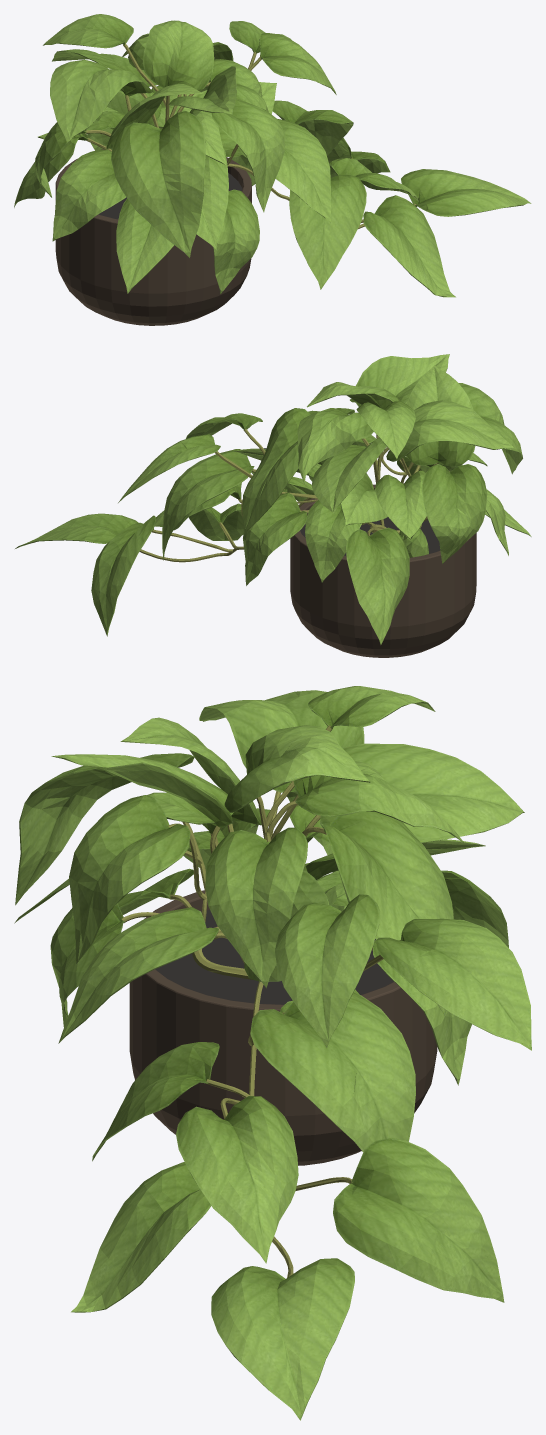
File: augalas.obj
3 renders of one model, top to bottom at view 1: azimuth 30°, elevation 25°; view 2: azimuth 150°, elevation 25°; view 3: azimuth 270°, elevation 25°, orthographic. The views are drawn at different scales.
Parts seen in each view (by area): view 1: Augalas1_Untitled, Cylinder, Augalas35_Untitled.026, Grid; view 2: Augalas1_Untitled, Cylinder, Augalas35_Untitled.026, Grid; view 3: Augalas1_Untitled, Cylinder, Augalas35_Untitled.026, Grid.
Boxes of the visible parts, x1,y1,x2,y2 form: Augalas1_Untitled: (14, 14, 531, 297); Cylinder: (55, 149, 251, 325); Augalas35_Untitled.026: (85, 43, 416, 228); Grid: (98, 173, 242, 219); Augalas1_Untitled: (15, 354, 531, 644); Cylinder: (290, 484, 476, 657); Augalas35_Untitled.026: (139, 428, 449, 562); Grid: (300, 517, 440, 555); Augalas1_Untitled: (14, 686, 531, 1420); Cylinder: (129, 890, 437, 1165); Augalas35_Untitled.026: (121, 725, 400, 1277); Grid: (155, 910, 393, 1004).
Bounding box in the file's own units: 60.87 × 31.54 × 34.9.
4 materials, 1 textured.
